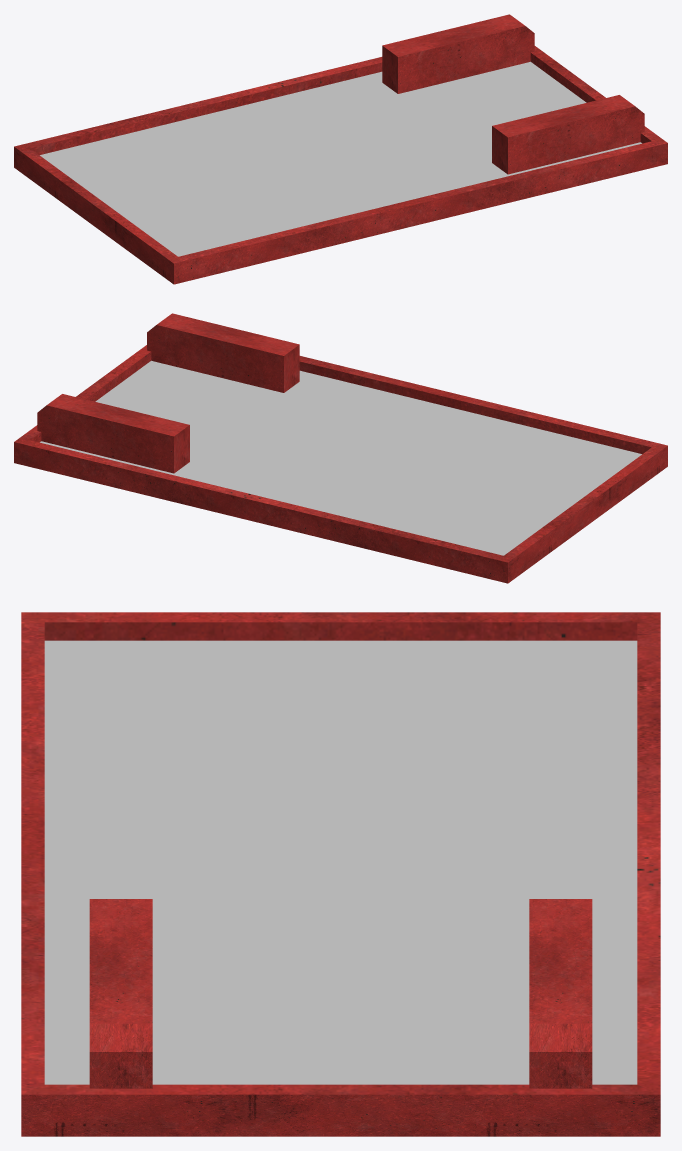
File: Ob_Building1WallTopSharp_RC.fbx
The picture shows the model from 3 angles, top to bottom: view 1: azimuth 30°, elevation 25°; view 2: azimuth 150°, elevation 25°; view 3: azimuth 270°, elevation 25°; orthographic projection. The views are drawn at different scales.
Visible parts, largest first — view 1: Ob_Building1WallTopSharp_RC; view 2: Ob_Building1WallTopSharp_RC; view 3: Ob_Building1WallTopSharp_RC.
Boxes of the visible parts, left/top/right/bottom form: Ob_Building1WallTopSharp_RC: left=14, top=14, right=667, bottom=284; Ob_Building1WallTopSharp_RC: left=14, top=313, right=667, bottom=583; Ob_Building1WallTopSharp_RC: left=21, top=612, right=660, bottom=1136.
Size of the model in its own units: 2953 by 280 by 1656.
